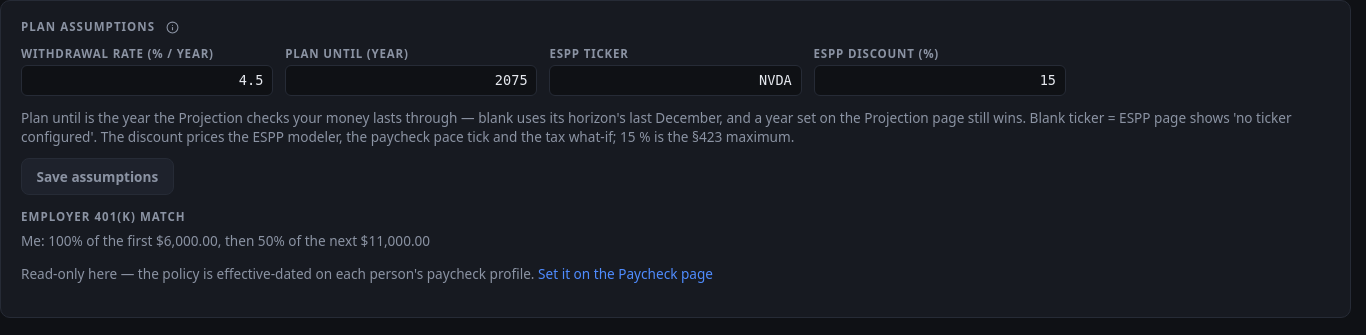
Scenario: PlanAssumptionsCard › re-seeds the boxes from the PUT RESPONSE, not from what was typed
This screenshot has width=1366, height=335.
Expected: the field labelled "ESPP ticker" is shown, left=549, top=65, right=802, bottom=96
Replace the text in the field labelled "Withdrawal rate (% / year)" with "3.7500" at x=147, y=80, box left=21, top=65, right=273, bottom=96
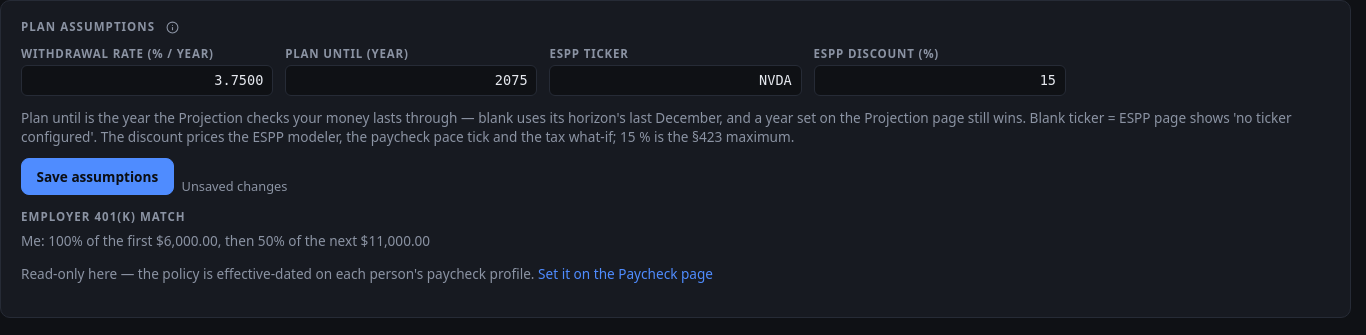
Replace the text in the field labelled "ESPP ticker" with "msft" at x=676, y=80, box left=549, top=65, right=802, bottom=96
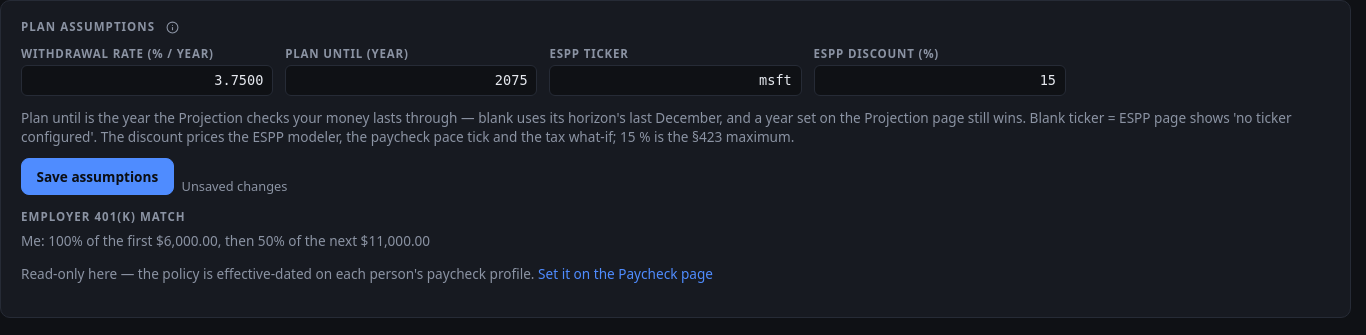
Replace the text in the field labelled "ESPP discount (%)" with "10" at x=940, y=80, box left=814, top=65, right=1066, bottom=96
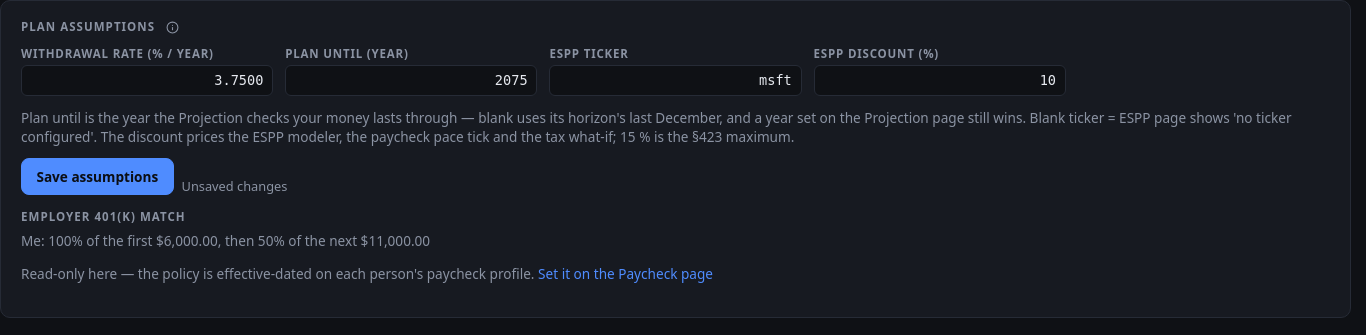
Click the button "Save assumptions" at x=97, y=176, box left=21, top=158, right=174, bottom=195
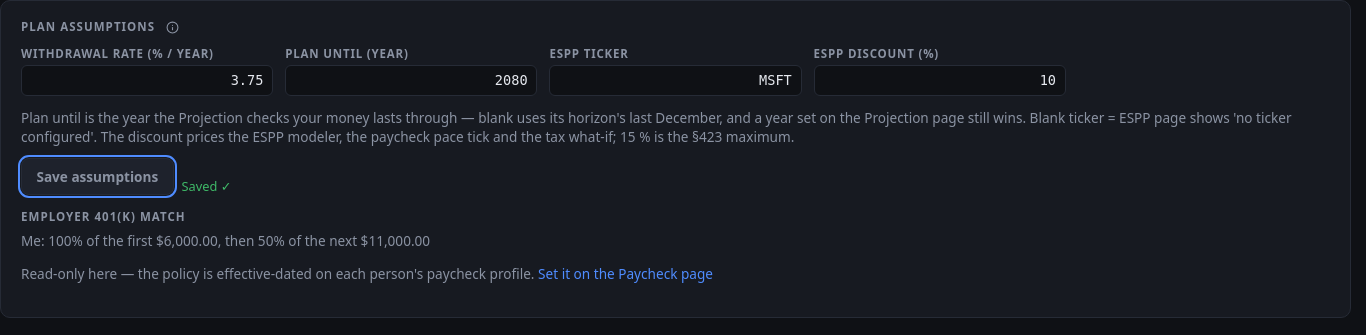
Expected: the field labelled "Withdrawal rate (% / year)" holds "3.75", left=21, top=65, right=273, bottom=96
Expected: the field labelled "Plan until (year)" holds "2080", left=285, top=65, right=537, bottom=96
